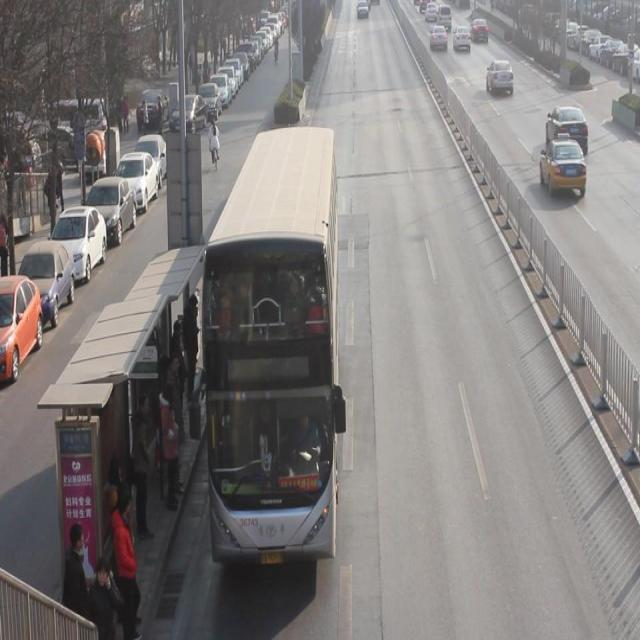car: (540, 133, 588, 202), (546, 108, 589, 160), (485, 62, 515, 100), (470, 19, 489, 47), (452, 28, 471, 56), (430, 28, 448, 54), (425, 1, 438, 24), (357, 1, 368, 24)
truck: (436, 7, 452, 33)
van: (200, 131, 337, 564)
